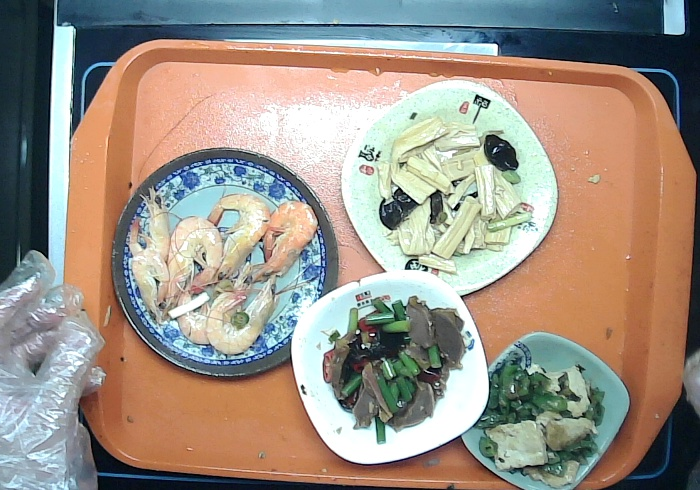NLDX-Bai_Se_Xiao_Fang_Die: (287, 264, 498, 466)
NLDX-Fu_Zi_Fang_Die: (335, 75, 567, 300)
NLDX-Qing_Hua_Xiao_Fang_Die: (458, 324, 635, 490)
NLDX-Qing_Hua_Yuan_Die: (103, 145, 346, 384)
